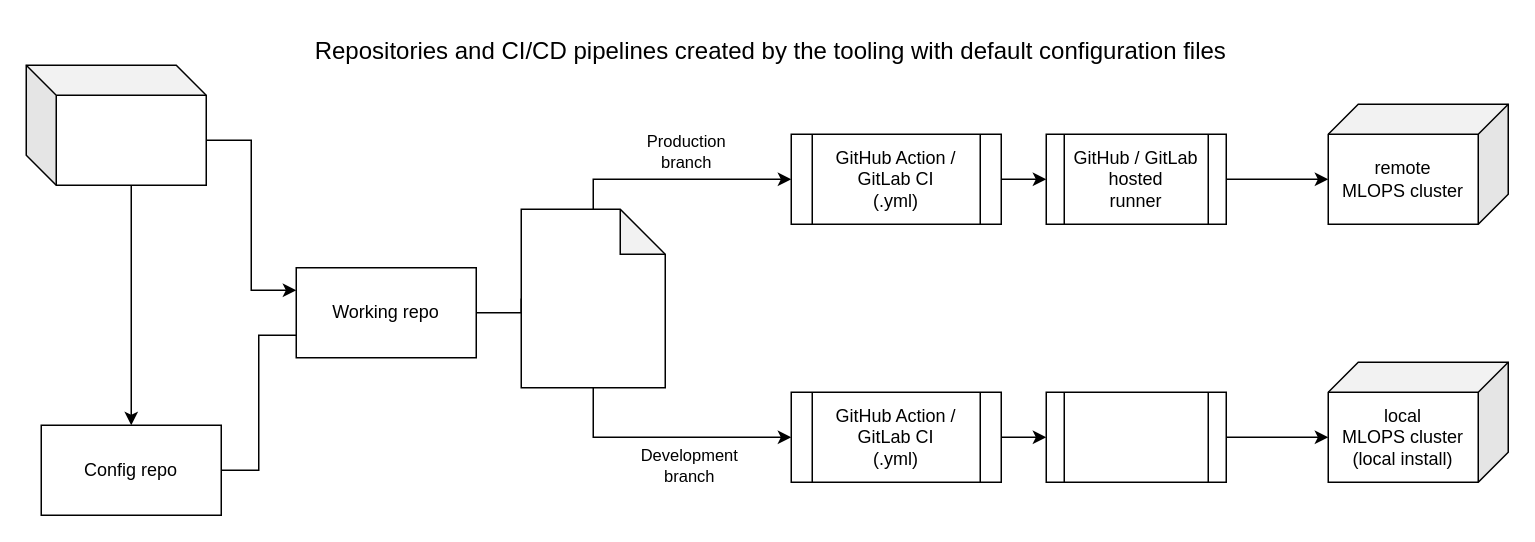
The diagram is 1535 pixels wide and 542 high, and some of its shapes have lost their labels. The centre of each missing label's shape, as x and y in pixels:
local GitHub / GitLab runner (local install): pixel 1135 436
Source files or Notebooks defining MLOPS pipeline: pixel 592 298
Tool (Python + Typer): pixel 115 124
